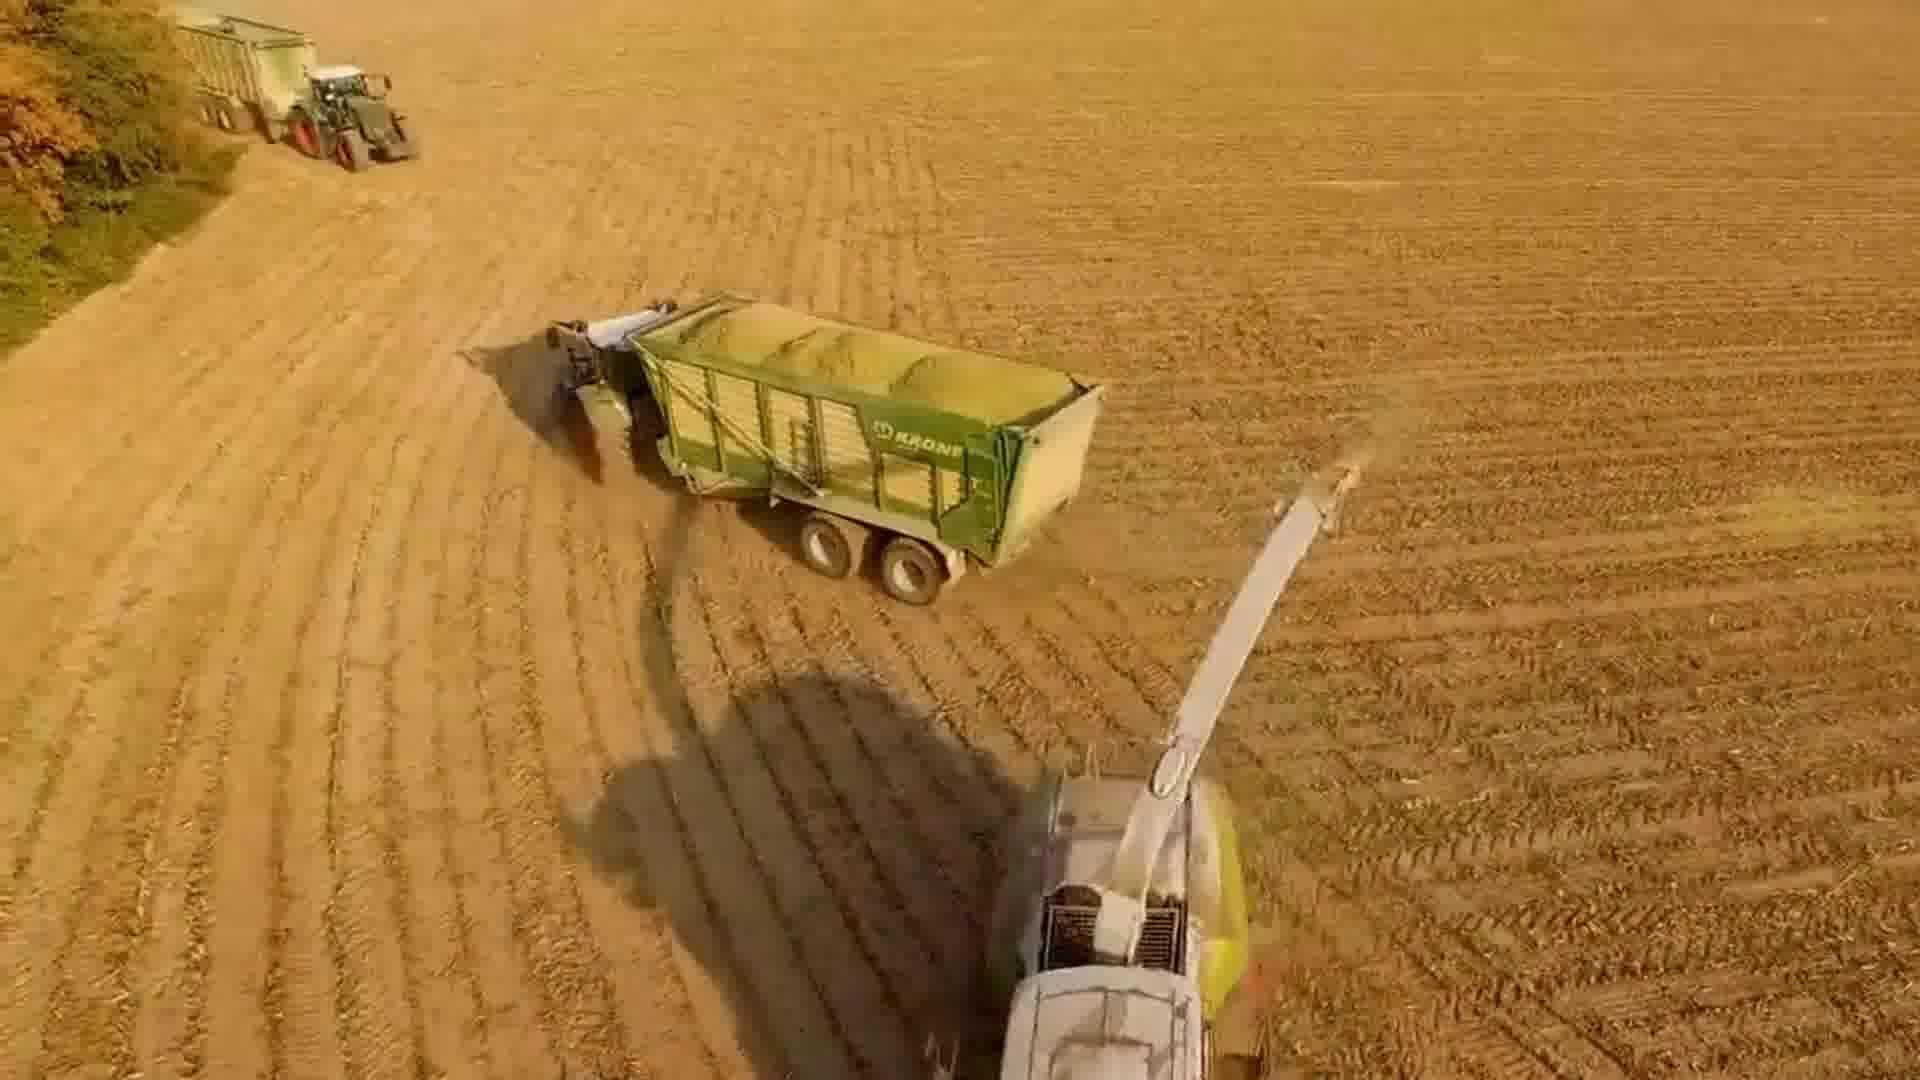combine harvester: (927, 444, 1367, 1080)
tractor: (538, 293, 682, 487), (281, 61, 417, 177)
trailer: (616, 284, 1120, 611), (166, 7, 318, 150)
